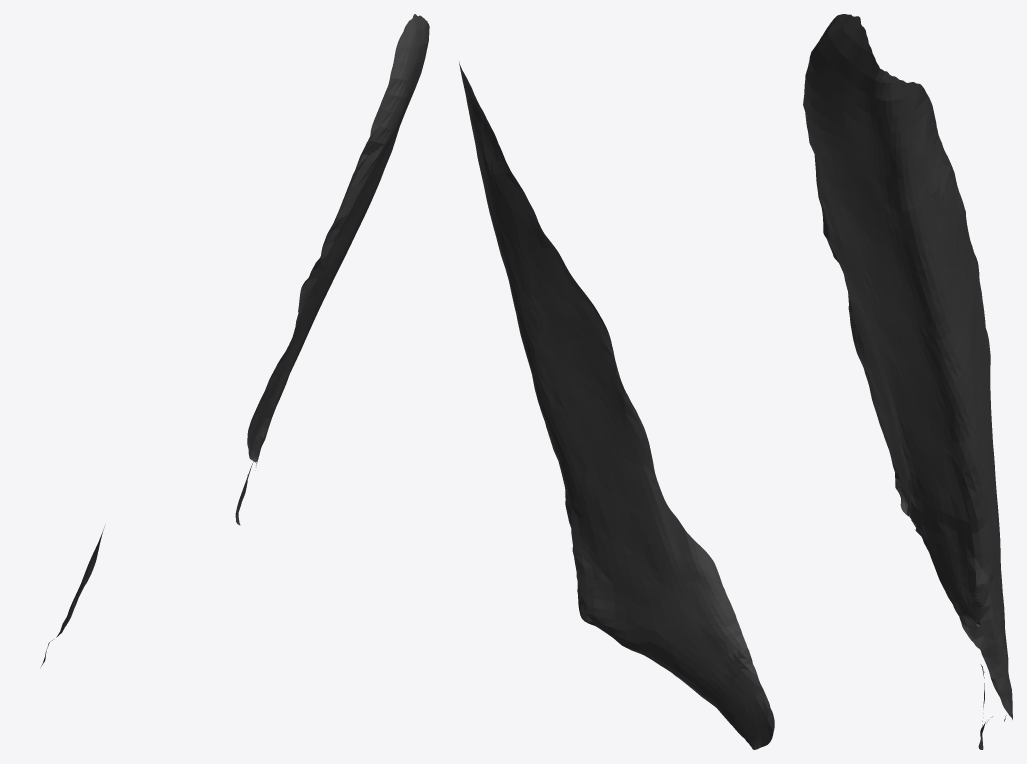
Rendered from Teres_major.glb.
3 views of the same model, side by side, from view 1: azimuth 30°, elevation 25°; view 2: azimuth 150°, elevation 25°; view 3: azimuth 270°, elevation 25° (orthographic). The views are drawn at different scales.
Visible parts, largest first — view 1: Teres_major; view 2: Teres_major; view 3: Teres_major.
Part boxes in pixels (x1,y1,x2,y2): Teres_major: (40,14,429,667); Teres_major: (459,62,774,749); Teres_major: (803,14,1012,749).
Bounding box in the file's own units: 0.1368 × 0.2377 × 0.0472.
Materials: 1 (1 with a texture image).
